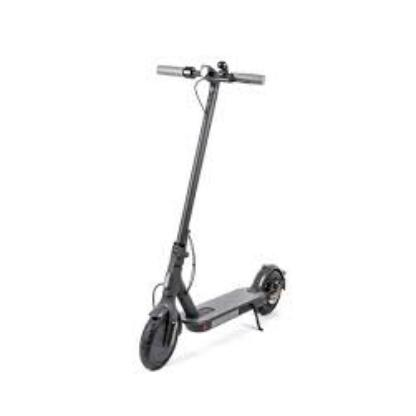bike: (138, 60, 288, 372)
